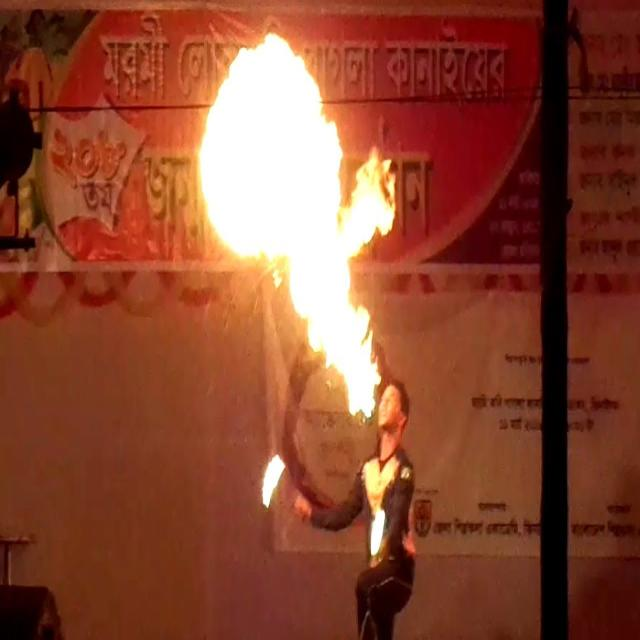fire: (198, 33, 340, 289), (284, 258, 380, 418), (340, 145, 396, 260)
